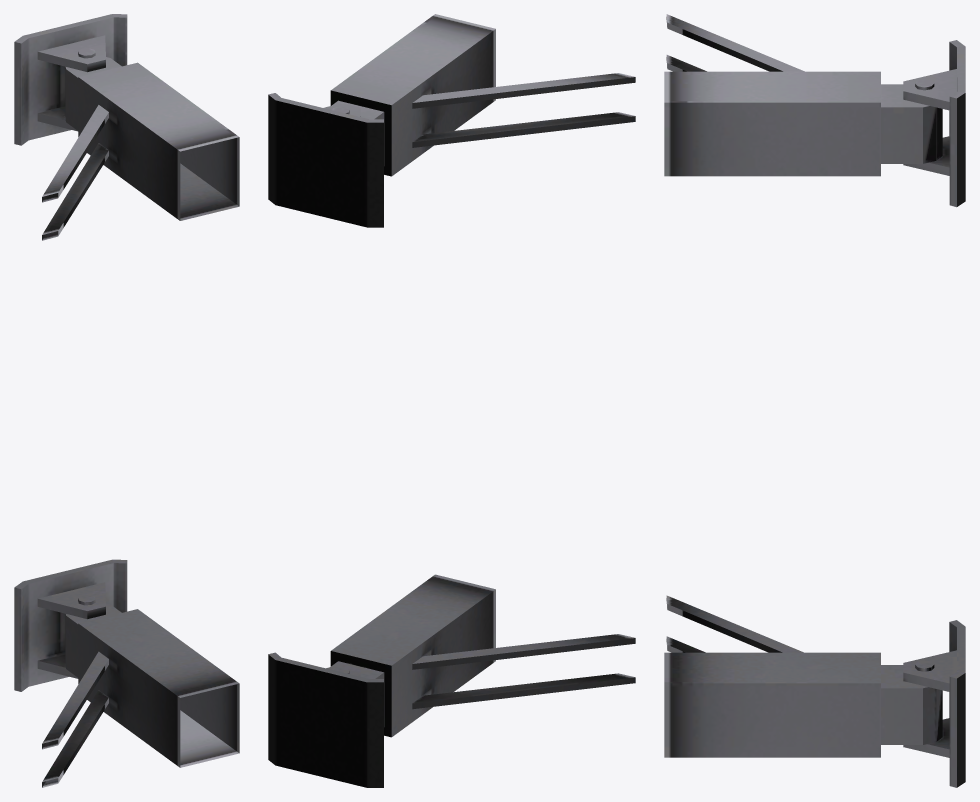
Rendered from landing_jacks.obj.
3 views of the same model, side by side, from view 1: azimuth 30°, elevation 25°; view 2: azimuth 150°, elevation 25°; view 3: azimuth 270°, elevation 25° (orthographic). The views are drawn at different scales.
Parts seen in each view (by area): view 1: Object001; view 2: Object001; view 3: Object001.
Part boxes in pixels (<box>): Object001: <box>14,14,239,787</box>; Object001: <box>268,14,635,787</box>; Object001: <box>664,14,965,787</box>.
Size of the model in its own units: 0.5543 by 1.55 by 0.6127.
1 material, 1 textured.
